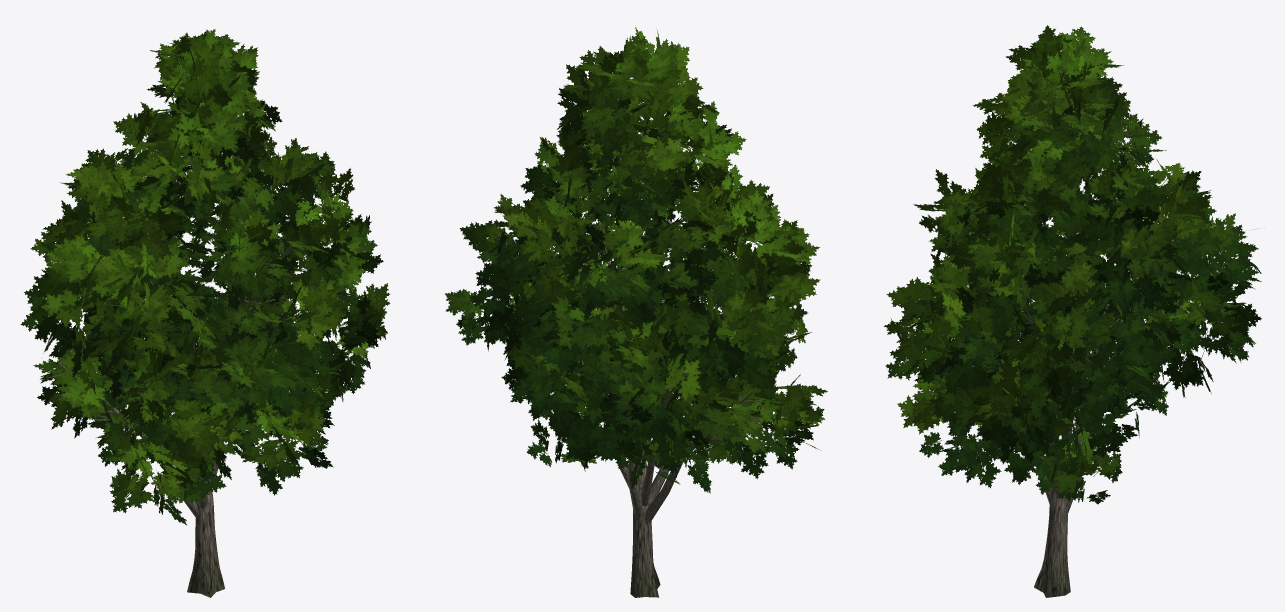
Rendered from maple-dense-mid.glb.
3 renders of one model, left to right at view 1: azimuth 30°, elevation 25°; view 2: azimuth 150°, elevation 25°; view 3: azimuth 270°, elevation 25°, orthographic.
Parts seen in each view (by area): view 1: Leaves, Bark; view 2: Leaves, Bark; view 3: Leaves, Bark.
Boxes of the visible parts, x1,y1,x2,y2 form: Leaves: (20,29,390,525); Bark: (46,246,294,597); Leaves: (445,27,827,493); Bark: (588,218,773,597); Leaves: (883,25,1261,504); Bark: (996,280,1160,597).
Size of the model in its own units: 7.57 by 11.65 by 7.49.
2 materials, 2 textured.
